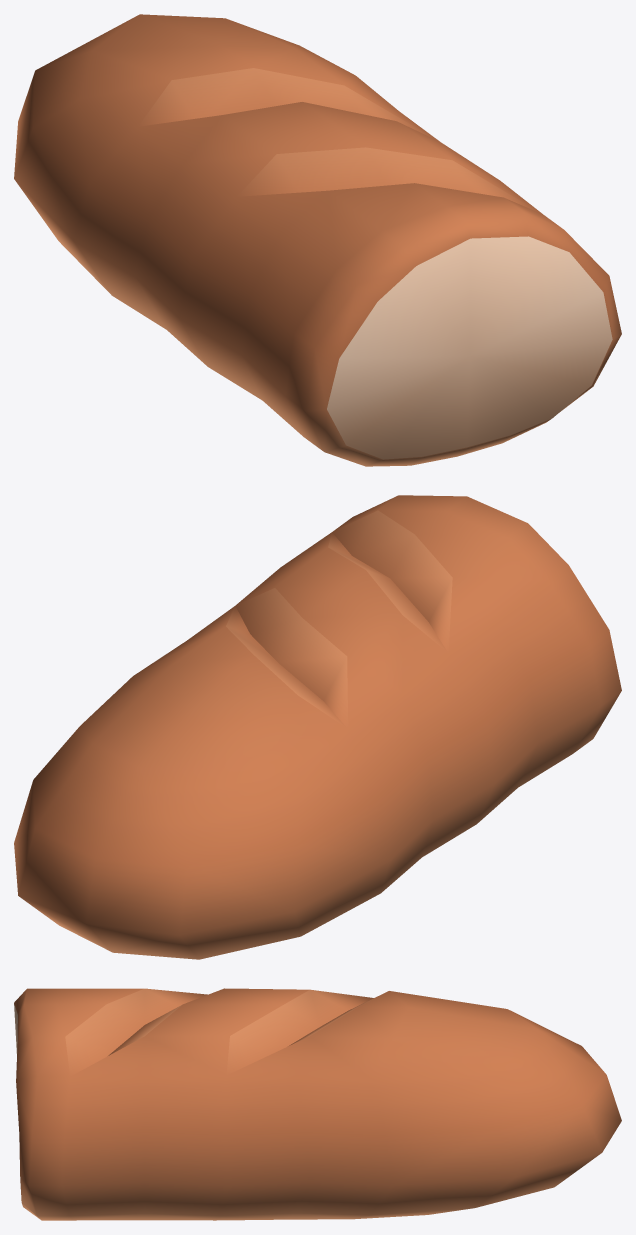
File: baguette_half.glb
3 views of the same model, one above another, from view 1: azimuth 30°, elevation 25°; view 2: azimuth 150°, elevation 25°; view 3: azimuth 270°, elevation 25° (orthographic). The views are drawn at different scales.
Parts seen in each view (by area): view 1: baguette_half; view 2: baguette_half; view 3: baguette_half.
Boxes of the visible parts, bbox=[...] form: baguette_half: bbox=[14, 14, 621, 466]; baguette_half: bbox=[14, 495, 621, 959]; baguette_half: bbox=[14, 988, 621, 1220].
Size of the model in its own units: 0.3706 by 0.2716 by 0.7864.
1 material, 1 textured.
